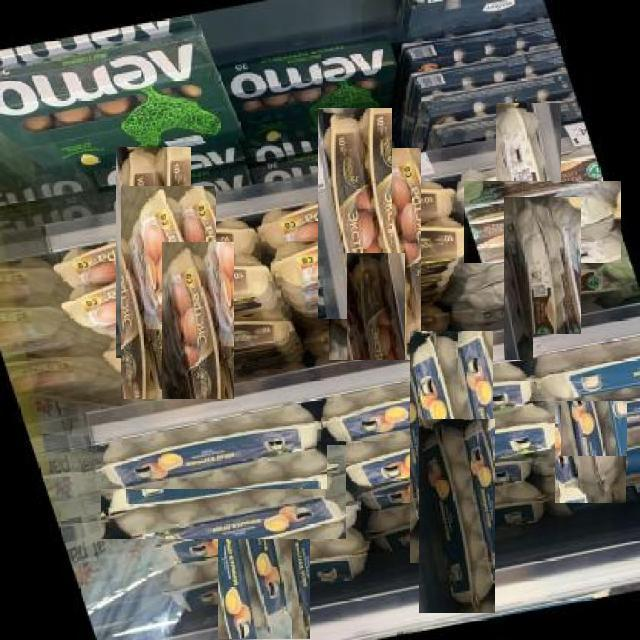Egg: (100, 445, 346, 539), (86, 399, 327, 489), (121, 187, 216, 408), (328, 149, 421, 365), (410, 331, 493, 562), (315, 360, 537, 442), (219, 423, 292, 640), (117, 146, 191, 358), (223, 462, 310, 640), (319, 108, 392, 319), (419, 420, 495, 613), (162, 243, 234, 443), (504, 197, 581, 368), (464, 181, 621, 263), (495, 103, 561, 255), (347, 252, 405, 406), (533, 334, 639, 401), (555, 404, 626, 503), (560, 363, 627, 456)
